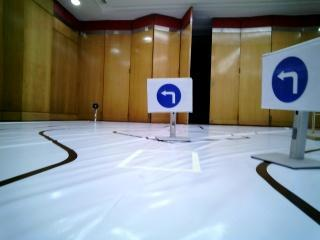left: (264, 51, 318, 110), (146, 78, 190, 112)
